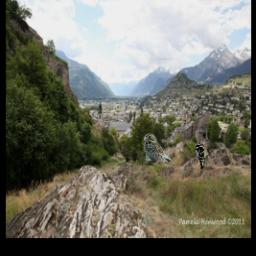Sparrow: (144, 134, 172, 165)
Woodpecker: (196, 142, 212, 170)
